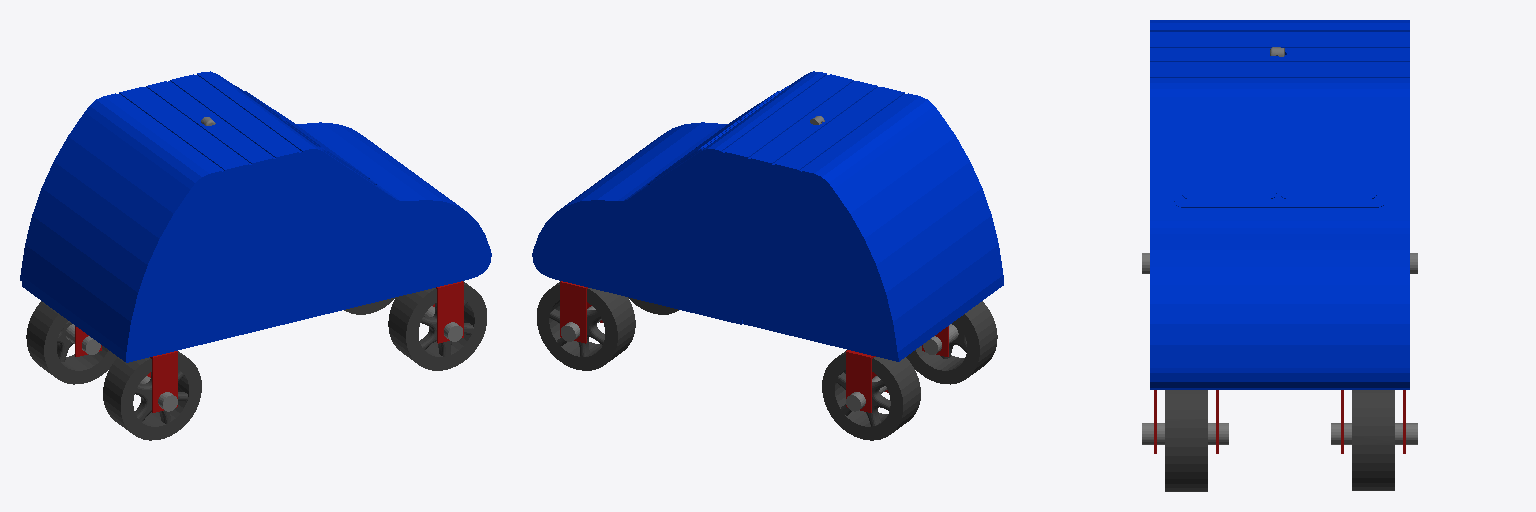
The robot description file, URDF, robot "toy_car":
<?xml version="1.0" encoding="utf-8"?>
<!-- This URDF was automatically created by SolidWorks to URDF Exporter! Originally created by [author] ([email redacted]) 
     Commit Version: 1.6.0-4-g7f85cfe  Build Version: 1.6.7995.38578
     For more information, please see http://wiki.ros.org/sw_urdf_exporter -->
<robot
  name="toy_car">
  <link
    name="Base_link">
    <inertial>
      <origin
        xyz="-0.0426285345046141 -4.22003044919864E-05 0.14198616644932"
        rpy="0 0 0" />
      <mass
        value="118.777773304167" />
      <inertia
        ixx="3.44533078588298"
        ixy="-0.00106373919126701"
        ixz="0.546779270877047"
        iyy="7.37765984418302"
        iyz="-0.000775828384406624"
        izz="8.06320159688355" />
    </inertial>
    <visual>
      <origin
        xyz="0 0 0"
        rpy="0 0 0" />
      <geometry>
        <mesh
          filename="package://toy_car/meshes/Base_link.STL" />
      </geometry>
      <material
        name="">
        <color
          rgba="0.00784313725490196 0.23921568627451 0.823529411764706 1" />
      </material>
    </visual>
    <collision>
      <origin
        xyz="0 0 0"
        rpy="0 0 0" />
      <geometry>
        <mesh
          filename="package://toy_car/meshes/Base_link.STL" />
      </geometry>
    </collision>
  </link>
  <link
    name="Joint1_Link">
    <inertial>
      <origin
        xyz="0 -8.32667268468867E-17 -0.0301616627241313"
        rpy="0 0 0" />
      <mass
        value="0.124130848717505" />
      <inertia
        ixx="0.0004830988736972"
        ixy="1.28902531710661E-05"
        ixz="-9.3173624197973E-20"
        iyy="0.000283667508714675"
        iyz="-2.55803950070799E-19"
        izz="0.000276878735483341" />
    </inertial>
    <visual>
      <origin
        xyz="0 0 0"
        rpy="0 0 0" />
      <geometry>
        <mesh
          filename="package://toy_car/meshes/Joint1_Link.STL" />
      </geometry>
      <material
        name="">
        <color
          rgba="0.694117647058824 0.0980392156862745 0.0980392156862745 1" />
      </material>
    </visual>
    <collision>
      <origin
        xyz="0 0 0"
        rpy="0 0 0" />
      <geometry>
        <mesh
          filename="package://toy_car/meshes/Joint1_Link.STL" />
      </geometry>
    </collision>
  </link>
  <joint
    name="Joint1"
    type="revolute">
    <origin
      xyz="0.3556 0.1651 -0.03175"
      rpy="0 0 3.0773" />
    <parent
      link="Base_link" />
    <child
      link="Joint1_Link" />
    <axis
      xyz="0 0 1" />
    <limit
      lower="-0.61"
      upper="0.61"
      effort="0"
      velocity="0" />
  </joint>
  <link
    name="Pin1_Link">
    <inertial>
      <origin
        xyz="-0.00283811998654371 0.0761470399666677 0.00011566873687055"
        rpy="0 0 0" />
      <mass
        value="0.16540999484257" />
      <inertia
        ixx="0.000334731358482015"
        ixy="1.13572747544458E-05"
        ixz="1.72519066494735E-08"
        iyy="3.0437856934387E-05"
        iyz="-4.62870361847676E-07"
        izz="0.000335153958872749" />
    </inertial>
    <visual>
      <origin
        xyz="0 0 0"
        rpy="0 0 0" />
      <geometry>
        <mesh
          filename="package://toy_car/meshes/Pin1_Link.STL" />
      </geometry>
      <material
        name="">
        <color
          rgba="0.498039215686275 0.498039215686275 0.498039215686275 1" />
      </material>
    </visual>
    <collision>
      <origin
        xyz="0 0 0"
        rpy="0 0 0" />
      <geometry>
        <mesh
          filename="package://toy_car/meshes/Pin1_Link.STL" />
      </geometry>
    </collision>
  </link>
  <joint
    name="Pin1"
    type="fixed">
    <origin
      xyz="0.0049762 -0.07731 -0.10795"
      rpy="0 -0.040733 0.026993" />
    <parent
      link="Joint1_Link" />
    <child
      link="Pin1_Link" />
    <axis
      xyz="0 0 0" />
  </joint>
  <link
    name="Wheel1_Link">
    <inertial>
      <origin
        xyz="-0.00216214695104683 0.0352298141764032 -0.00113862677348732"
        rpy="0 0 0" />
      <mass
        value="1.46371001105716" />
      <inertia
        ixx="0.00585520773581656"
        ixy="-0.0002773491858025"
        ixz="-2.29367543191264E-06"
        iyy="0.0101926207957827"
        iyz="-0.000165331158740007"
        izz="0.00584658665447184" />
    </inertial>
    <visual>
      <origin
        xyz="0 0 0"
        rpy="0 0 0" />
      <geometry>
        <mesh
          filename="package://toy_car/meshes/Wheel1_Link.STL" />
      </geometry>
      <material
        name="">
        <color
          rgba="0.298039215686275 0.298039215686275 0.298039215686275 1" />
      </material>
    </visual>
    <collision>
      <origin
        xyz="0 0 0"
        rpy="0 0 0" />
      <geometry>
        <mesh
          filename="package://toy_car/meshes/Wheel1_Link.STL" />
      </geometry>
    </collision>
  </link>
  <joint
    name="Wheel1"
    type="continuous">
    <origin
      xyz="-0.0014664 0.039343 5.9762E-05"
      rpy="0.041225 0.0011128 -0.026972" />
    <parent
      link="Pin1_Link" />
    <child
      link="Wheel1_Link" />
    <axis
      xyz="-0.064184 0.99715 -0.039683" />
    <limit
      effort="0"
      velocity="100" />
  </joint>
  <link
    name="Joint2_Link">
    <inertial>
      <origin
        xyz="-5.55111512312578E-17 5.55111512312578E-17 -0.030161662724131"
        rpy="0 0 0" />
      <mass
        value="0.124130848717504" />
      <inertia
        ixx="0.000483098873697198"
        ixy="1.2890253171066E-05"
        ixz="-2.35475159336695E-19"
        iyy="0.000283667508714673"
        iyz="1.88041314290455E-19"
        izz="0.000276878735483341" />
    </inertial>
    <visual>
      <origin
        xyz="0 0 0"
        rpy="0 0 0" />
      <geometry>
        <mesh
          filename="package://toy_car/meshes/Joint2_Link.STL" />
      </geometry>
      <material
        name="">
        <color
          rgba="0.694117647058824 0.0980392156862745 0.0980392156862745 1" />
      </material>
    </visual>
    <collision>
      <origin
        xyz="0 0 0"
        rpy="0 0 0" />
      <geometry>
        <mesh
          filename="package://toy_car/meshes/Joint2_Link.STL" />
      </geometry>
    </collision>
  </link>
  <joint
    name="Joint2"
    type="revolute">
    <origin
      xyz="0.3556 -0.1651 -0.03175"
      rpy="0 0 3.0773" />
    <parent
      link="Base_link" />
    <child
      link="Joint2_Link" />
    <axis
      xyz="0 0 1" />
    <limit
      lower="-0.78"
      upper="0.78"
      effort="0"
      velocity="0" />
  </joint>
  <link
    name="Pin2_Link">
    <inertial>
      <origin
        xyz="-0.00489465473131923 0.07604263511387 0"
        rpy="0 0 0" />
      <mass
        value="0.16540999484257" />
      <inertia
        ixx="0.000333895636619403"
        ixy="1.95600326160731E-05"
        ixz="0"
        iyy="3.12728756885116E-05"
        iyz="5.71747239396653E-21"
        izz="0.000335154661981237" />
    </inertial>
    <visual>
      <origin
        xyz="0 0 0"
        rpy="0 0 0" />
      <geometry>
        <mesh
          filename="package://toy_car/meshes/Pin2_Link.STL" />
      </geometry>
      <material
        name="">
        <color
          rgba="0.498039215686275 0.498039215686275 0.498039215686275 1" />
      </material>
    </visual>
    <collision>
      <origin
        xyz="0 0 0"
        rpy="0 0 0" />
      <geometry>
        <mesh
          filename="package://toy_car/meshes/Pin2_Link.STL" />
      </geometry>
    </collision>
  </link>
  <joint
    name="Pin2"
    type="fixed">
    <origin
      xyz="0.0048131 -0.074775 -0.10795"
      rpy="0 0 0" />
    <parent
      link="Joint2_Link" />
    <child
      link="Pin2_Link" />
    <axis
      xyz="0 0 0" />
  </joint>
  <link
    name="Wheel2_Link">
    <inertial>
      <origin
        xyz="0.00210743001370378 -0.0352507507948613 -0.000232860989485217"
        rpy="0 0 0" />
      <mass
        value="1.46371118981023" />
      <inertia
        ixx="0.00586861101108003"
        ixy="-0.000274527148540642"
        ixz="-4.17444925581941E-06"
        iyy="0.0101991535376833"
        iyz="7.45704072127398E-06"
        izz="0.00582664727653024" />
    </inertial>
    <visual>
      <origin
        xyz="0 0 0"
        rpy="0 0 0" />
      <geometry>
        <mesh
          filename="package://toy_car/meshes/Wheel2_Link.STL" />
      </geometry>
      <material
        name="">
        <color
          rgba="0.298039215686275 0.298039215686275 0.298039215686275 1" />
      </material>
    </visual>
    <collision>
      <origin
        xyz="0 0 0"
        rpy="0 0 0" />
      <geometry>
        <mesh
          filename="package://toy_car/meshes/Wheel2_Link.STL" />
      </geometry>
    </collision>
  </link>
  <joint
    name="Wheel2"
    type="continuous">
    <origin
      xyz="-0.0072604 0.1128 0"
      rpy="0 0 0" />
    <parent
      link="Pin2_Link" />
    <child
      link="Wheel2_Link" />
    <axis
      xyz="0.064234 -0.99793 0" />
    <limit
      effort="0"
      velocity="100" />
  </joint>
  <link
    name="Joint3_Link">
    <inertial>
      <origin
        xyz="0 0 -0.0301616627241311"
        rpy="0 0 0" />
      <mass
        value="0.124130848717505" />
      <inertia
        ixx="0.0004830988736972"
        ixy="1.28902531710662E-05"
        ixz="-5.67512074660381E-20"
        iyy="0.000283667508714674"
        iyz="1.64324391767334E-19"
        izz="0.000276878735483342" />
    </inertial>
    <visual>
      <origin
        xyz="0 0 0"
        rpy="0 0 0" />
      <geometry>
        <mesh
          filename="package://toy_car/meshes/Joint3_Link.STL" />
      </geometry>
      <material
        name="">
        <color
          rgba="0.694117647058824 0.0980392156862745 0.0980392156862745 1" />
      </material>
    </visual>
    <collision>
      <origin
        xyz="0 0 0"
        rpy="0 0 0" />
      <geometry>
        <mesh
          filename="package://toy_car/meshes/Joint3_Link.STL" />
      </geometry>
    </collision>
  </link>
  <joint
    name="Joint3"
    type="fixed">
    <origin
      xyz="-0.3556 0.1651 -0.03175"
      rpy="0 0 3.0773" />
    <parent
      link="Base_link" />
    <child
      link="Joint3_Link" />
    <axis
      xyz="0 0 0" />
  </joint>
  <link
    name="Pin3_Link">
    <inertial>
      <origin
        xyz="-0.00489465473131928 0.07604263511387 0"
        rpy="0 0 0" />
      <mass
        value="0.16540999484257" />
      <inertia
        ixx="0.000333895636619403"
        ixy="1.95600326160732E-05"
        ixz="2.5410988417629E-21"
        iyy="3.12728756885116E-05"
        iyz="9.52912065661088E-21"
        izz="0.000335154661981237" />
    </inertial>
    <visual>
      <origin
        xyz="0 0 0"
        rpy="0 0 0" />
      <geometry>
        <mesh
          filename="package://toy_car/meshes/Pin3_Link.STL" />
      </geometry>
      <material
        name="">
        <color
          rgba="0.498039215686275 0.498039215686275 0.498039215686275 1" />
      </material>
    </visual>
    <collision>
      <origin
        xyz="0 0 0"
        rpy="0 0 0" />
      <geometry>
        <mesh
          filename="package://toy_car/meshes/Pin3_Link.STL" />
      </geometry>
    </collision>
  </link>
  <joint
    name="Pin3"
    type="fixed">
    <origin
      xyz="0.00497623231017452 -0.0773100123657679 -0.10795"
      rpy="0 0 0" />
    <parent
      link="Joint3_Link" />
    <child
      link="Pin3_Link" />
    <axis
      xyz="0 0 0" />
  </joint>
  <link
    name="Wheel3_Link">
    <inertial>
      <origin
        xyz="-0.00254592752160032 0.035222527853133 -5.3127516316559E-05"
        rpy="0 0 0" />
      <mass
        value="1.46371020341956" />
      <inertia
        ixx="0.00584723946937808"
        ixy="-0.000290444959761925"
        ixz="6.73362301462099E-06"
        iyy="0.0101971978158898"
        iyz="-1.32810154552081E-06"
        izz="0.00584998487593019" />
    </inertial>
    <visual>
      <origin
        xyz="0 0 0"
        rpy="0 0 0" />
      <geometry>
        <mesh
          filename="package://toy_car/meshes/Wheel3_Link.STL" />
      </geometry>
      <material
        name="">
        <color
          rgba="0.298039215686275 0.298039215686275 0.298039215686275 1" />
      </material>
    </visual>
    <collision>
      <origin
        xyz="0 0 0"
        rpy="0 0 0" />
      <geometry>
        <mesh
          filename="package://toy_car/meshes/Wheel3_Link.STL" />
      </geometry>
    </collision>
  </link>
  <joint
    name="Wheel3"
    type="continuous">
    <origin
      xyz="-0.00252890494451513 0.0392886948088329 0"
      rpy="0 0 0" />
    <parent
      link="Pin3_Link" />
    <child
      link="Wheel3_Link" />
    <axis
      xyz="-0.0642343140593084 0.997934844014042 0" />
    <limit
      effort="0"
      velocity="100" />
  </joint>
  <link
    name="Joint4_Link">
    <inertial>
      <origin
        xyz="5.55111512312578E-17 5.55111512312578E-17 -0.0301616627241313"
        rpy="0 0 0" />
      <mass
        value="0.124130848717505" />
      <inertia
        ixx="0.000483098873697201"
        ixy="1.28902531710661E-05"
        ixz="-3.64224167319349E-20"
        iyy="0.000283667508714675"
        iyz="4.61632956253594E-19"
        izz="0.000276878735483343" />
    </inertial>
    <visual>
      <origin
        xyz="0 0 0"
        rpy="0 0 0" />
      <geometry>
        <mesh
          filename="package://toy_car/meshes/Joint4_Link.STL" />
      </geometry>
      <material
        name="">
        <color
          rgba="0.694117647058824 0.0980392156862745 0.0980392156862745 1" />
      </material>
    </visual>
    <collision>
      <origin
        xyz="0 0 0"
        rpy="0 0 0" />
      <geometry>
        <mesh
          filename="package://toy_car/meshes/Joint4_Link.STL" />
      </geometry>
    </collision>
  </link>
  <joint
    name="Joint4"
    type="fixed">
    <origin
      xyz="-0.3556 -0.1651 -0.03175"
      rpy="0 0 3.07731408501194" />
    <parent
      link="Base_link" />
    <child
      link="Joint4_Link" />
    <axis
      xyz="0 0 0" />
  </joint>
  <link
    name="Pin4_Link">
    <inertial>
      <origin
        xyz="-0.00489081641915112 0.0759827381930964 -0.00302380743988964"
        rpy="0 0 0" />
      <mass
        value="0.16540999484257" />
      <inertia
        ixx="0.000333897610461414"
        ixy="1.95292990658863E-05"
        ixz="-7.77187572013851E-07"
        iyy="3.17514076273443E-05"
        iyz="1.20742294844724E-05"
        izz="0.000334674156200394" />
    </inertial>
    <visual>
      <origin
        xyz="0 0 0"
        rpy="0 0 0" />
      <geometry>
        <mesh
          filename="package://toy_car/meshes/Pin4_Link.STL" />
      </geometry>
      <material
        name="">
        <color
          rgba="0.498039215686275 0.498039215686275 0.498039215686275 1" />
      </material>
    </visual>
    <collision>
      <origin
        xyz="0 0 0"
        rpy="0 0 0" />
      <geometry>
        <mesh
          filename="package://toy_car/meshes/Pin4_Link.STL" />
      </geometry>
    </collision>
  </link>
  <joint
    name="Pin4"
    type="fixed">
    <origin
      xyz="0.00481307715246387 -0.0747752578619723 -0.10795"
      rpy="0.0423235974745796 -0.0396052261810362 0" />
    <parent
      link="Joint4_Link" />
    <child
      link="Pin4_Link" />
    <axis
      xyz="0 0 0" />
  </joint>
  <link
    name="Wheel4_Link">
    <inertial>
      <origin
        xyz="0.00254926636754543 -0.0352223121973515 -3.08297953219294E-05"
        rpy="0 0 0" />
      <mass
        value="1.46371027395517" />
      <inertia
        ixx="0.00584844026652835"
        ixy="-0.000290478379695307"
        ixz="-8.34565471979886E-06"
        iyy="0.0101971889923073"
        iyz="4.84746873149512E-07"
        izz="0.00584879384195457" />
    </inertial>
    <visual>
      <origin
        xyz="0 0 0"
        rpy="0 0 0" />
      <geometry>
        <mesh
          filename="package://toy_car/meshes/Wheel4_Link.STL" />
      </geometry>
      <material
        name="">
        <color
          rgba="0.298039215686275 0.298039215686275 0.298039215686275 1" />
      </material>
    </visual>
    <collision>
      <origin
        xyz="0 0 0"
        rpy="0 0 0" />
      <geometry>
        <mesh
          filename="package://toy_car/meshes/Wheel4_Link.STL" />
      </geometry>
    </collision>
  </link>
  <joint
    name="Wheel4"
    type="continuous">
    <origin
      xyz="-0.00725471102174091 0.11270772831976 -0.00448531436916969"
      rpy="-0.042356773330912 0.0395697407834747 -0.00167661040974054" />
    <parent
      link="Pin4_Link" />
    <child
      link="Wheel4_Link" />
    <axis
      xyz="0.0642343140593085 -0.997934844014042 0" />
    <limit
      effort="0"
      velocity="100" />
  </joint>
  <link
    name="lidar_Link">
    <inertial>
      <origin
        xyz="2.1446069833897E-07 0.0143700000385549 -3.60722045116002E-08"
        rpy="0 0 0" />
      <mass
        value="0.0107844655207284" />
      <inertia
        ixx="1.06577800938719E-06"
        ixy="9.48672718150391E-13"
        ixz="-1.6180579231452E-12"
        iyy="8.72302781974236E-07"
        iyz="-3.36880671097441E-12"
        izz="1.01017987036267E-06" />
    </inertial>
    <visual>
      <origin
        xyz="0 0 0"
        rpy="0 0 0" />
      <geometry>
        <mesh
          filename="package://toy_car/meshes/lidar_Link.STL" />
      </geometry>
      <material
        name="">
        <color
          rgba="0.498039215686275 0.498039215686275 0.498039215686275 1" />
      </material>
    </visual>
    <collision>
      <origin
        xyz="0 0 0"
        rpy="0 0 0" />
      <geometry>
        <mesh
          filename="package://toy_car/meshes/lidar_Link.STL" />
      </geometry>
    </collision>
  </link>
  <joint
    name="lidar"
    type="fixed">
    <origin
      xyz="-0.1227 0 0.37497"
      rpy="1.5708 0 -0.065659" />
    <parent
      link="Base_link" />
    <child
      link="lidar_Link" />
    <axis
      xyz="0 0 1" />
  </joint>
</robot>

--- Facts derived from the render (not from the file) ---
Views: 3 orthographic renders of the robot side by side, from view 1: azimuth 30°, elevation 25°; view 2: azimuth 150°, elevation 25°; view 3: azimuth 270°, elevation 25°.
Robot: toy_car — 14 links, 13 joints (2 revolute, 4 continuous, 7 fixed); root link Base_link; default pose: every joint at zero.
Links seen in each view (by area): view 1: Base_link, Wheel4_Link, Wheel2_Link, Wheel3_Link, Joint2_Link, Joint4_Link; view 2: Base_link, Wheel3_Link, Wheel1_Link, Wheel4_Link, Joint1_Link, Joint3_Link; view 3: Base_link, Wheel2_Link, Wheel1_Link, Pin1_Link, Pin2_Link.
Boxes of the visible links, x1,y1,x2,y2 form: Base_link: [20, 71, 491, 362]; Wheel4_Link: [103, 351, 201, 440]; Wheel2_Link: [388, 281, 486, 370]; Wheel3_Link: [26, 301, 117, 384]; Joint2_Link: [433, 281, 463, 343]; Joint4_Link: [147, 351, 177, 412]; Base_link: [532, 71, 1003, 361]; Wheel3_Link: [822, 350, 920, 440]; Wheel1_Link: [537, 281, 635, 370]; Wheel4_Link: [906, 301, 997, 384]; Joint1_Link: [560, 281, 602, 343]; Joint3_Link: [846, 350, 888, 412]; Base_link: [1150, 20, 1409, 389]; Wheel2_Link: [1165, 390, 1207, 491]; Wheel1_Link: [1352, 390, 1394, 490]; Pin1_Link: [1331, 423, 1417, 444]; Pin2_Link: [1142, 423, 1228, 444].
Size in the robot's own frame: 0.9143 by 0.4851 by 0.629 metres.
14 mesh visuals loaded from 14 distinct referenced files (14 binary STL).